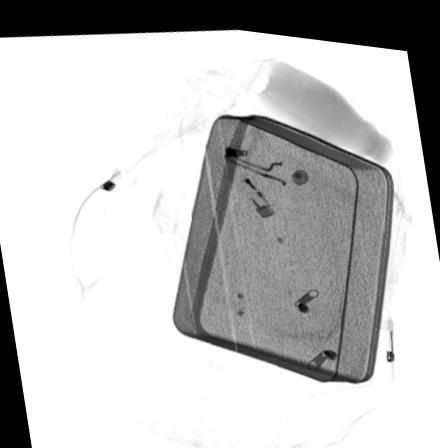Lighter: (225, 158, 278, 211)
